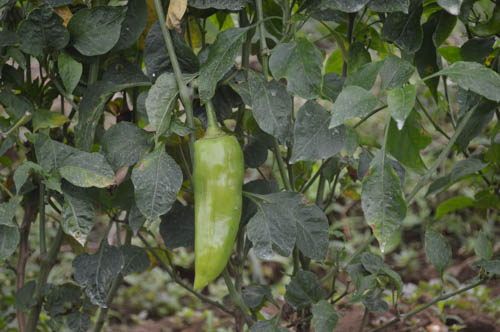ChiliPepper: (191, 139, 242, 294)
